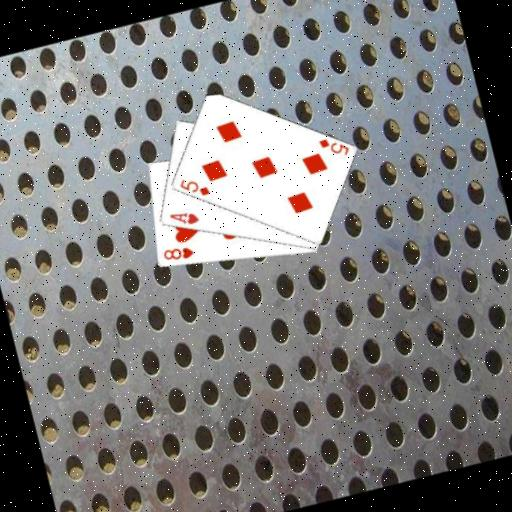5D: (175, 171, 212, 203), (315, 131, 352, 163)
8H: (159, 241, 196, 267)
AH: (165, 205, 201, 231)
